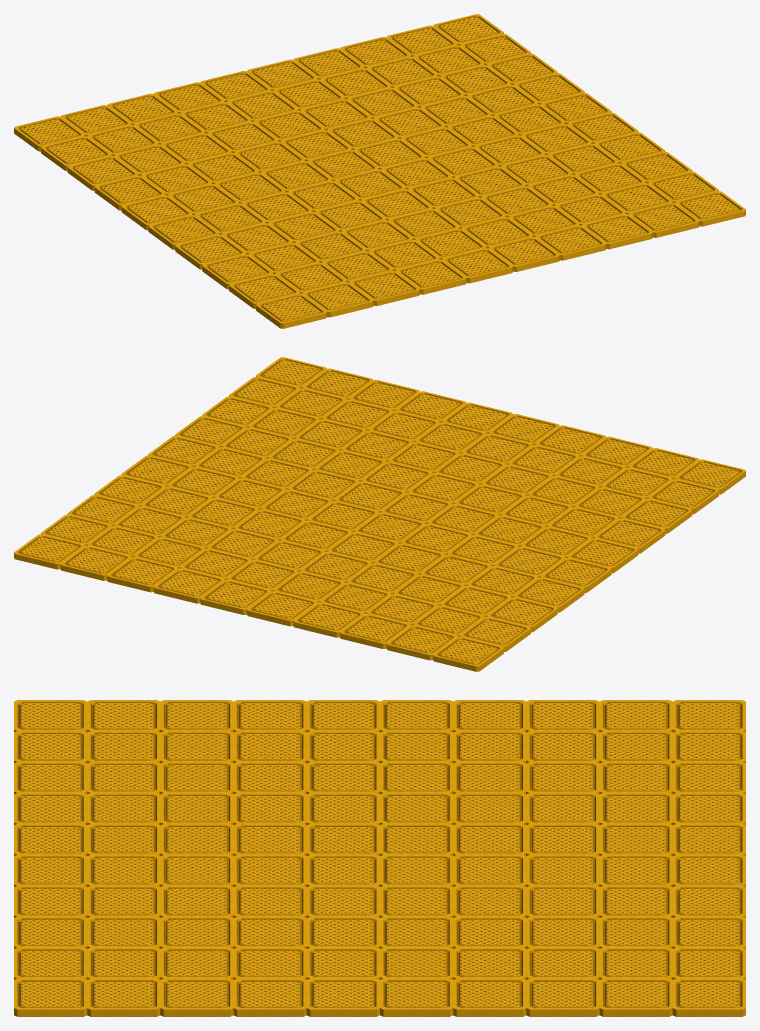
The model's file is squaretileBIG (1).obj.
3 renders of one model, top to bottom at view 1: azimuth 30°, elevation 25°; view 2: azimuth 150°, elevation 25°; view 3: azimuth 270°, elevation 25°, orthographic. The views are drawn at different scales.
Parts seen in each view (by area): view 1: Cube; view 2: Cube; view 3: Cube.
Boxes of the visible parts, left/top/right/bottom form: Cube: left=14, top=14, right=745, bottom=328; Cube: left=14, top=357, right=745, bottom=671; Cube: left=14, top=700, right=745, bottom=1016.
Bounding box in the file's own units: 20 × 0.2215 × 20.
